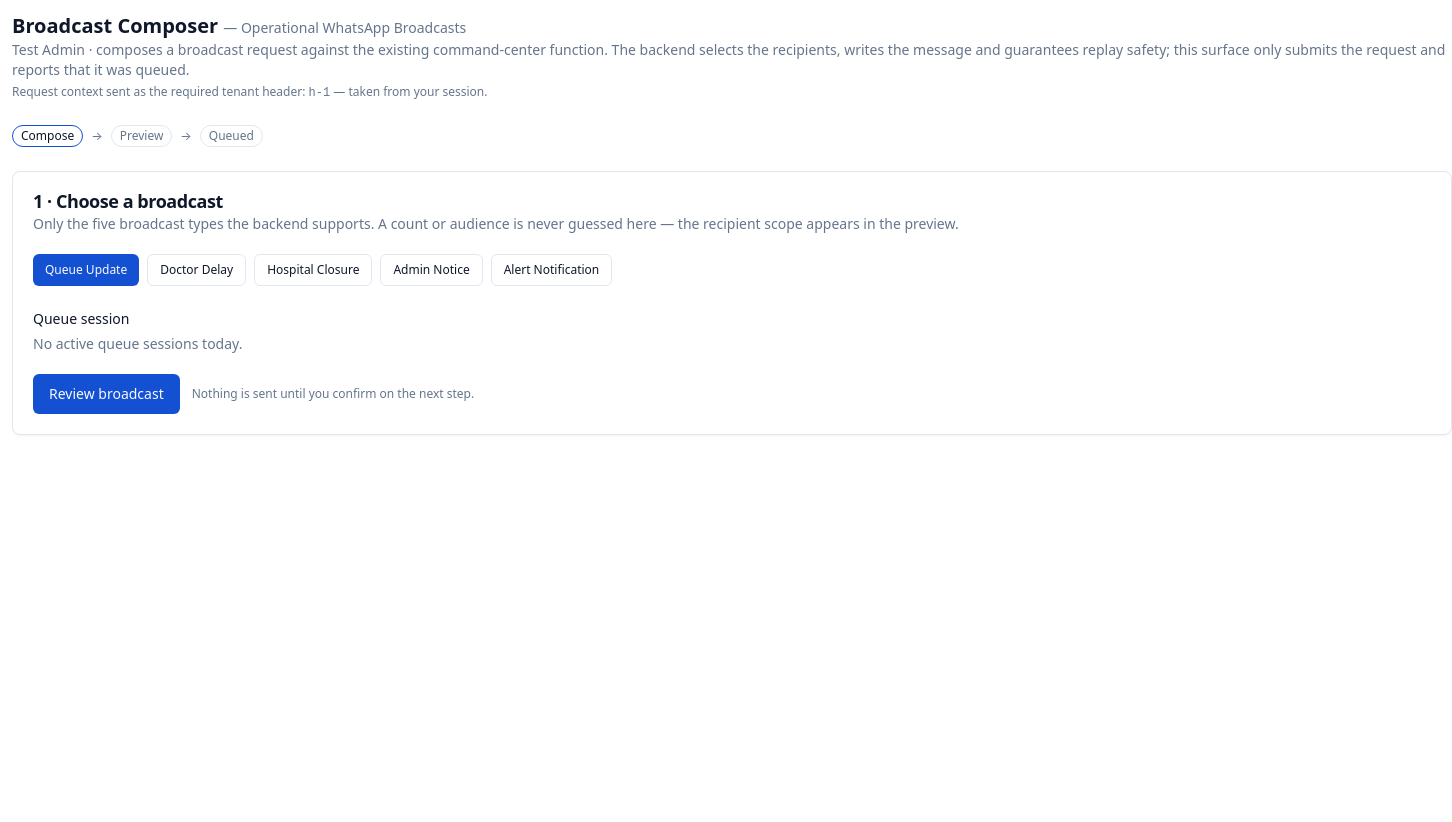
Scenario: compose fields per broadcast type › admin notice shows the category picker and message box
The image size is (1452, 822).
Click the button with test id "type-admin_notice" at [432, 270], box [380,254,483,286]
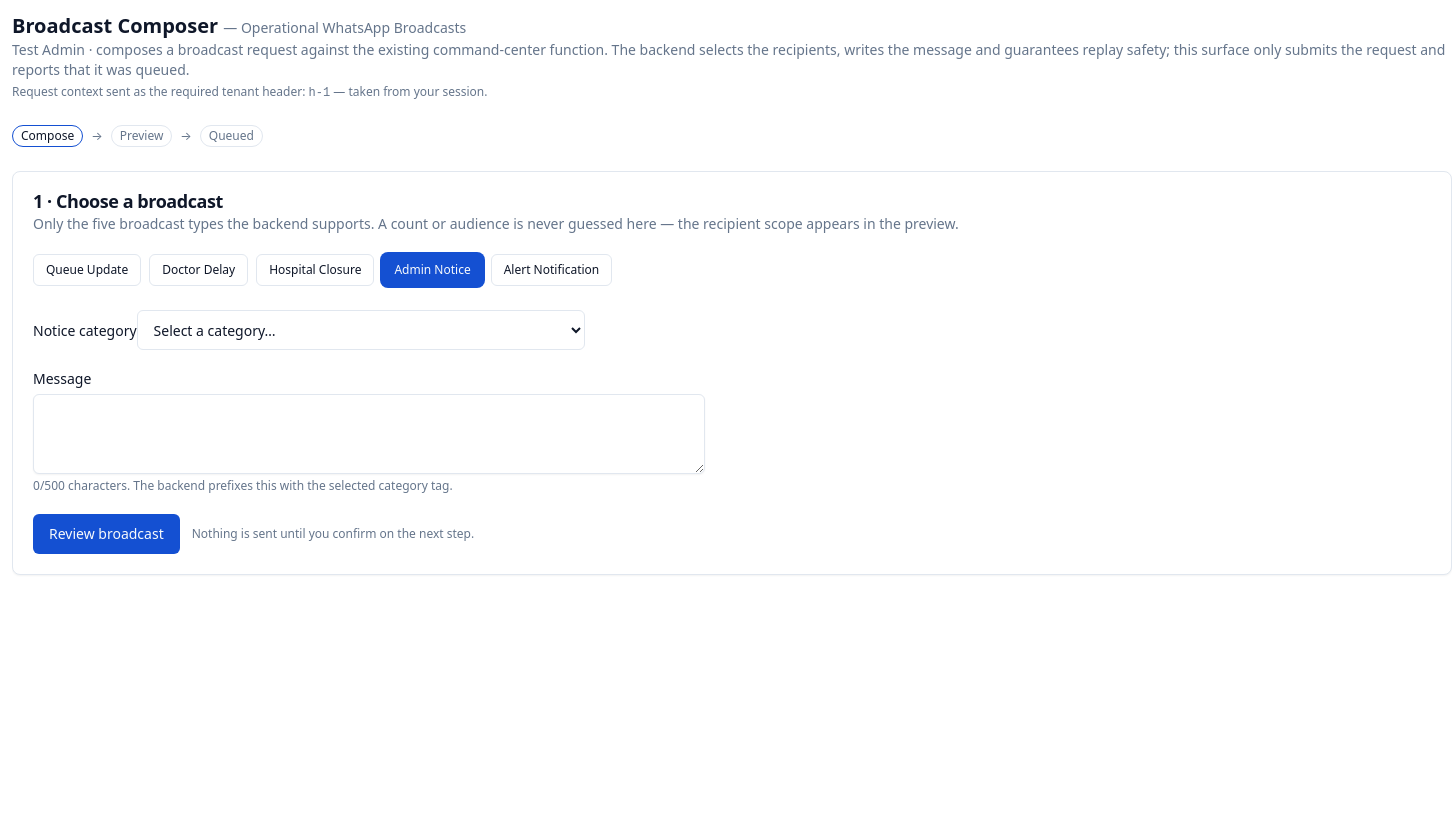
Expected: the dropdown with test id "bc-kind" is shown, [137,310,585,350]
Expected: the text box with test id "bc-message" is shown, [33,394,705,474]
